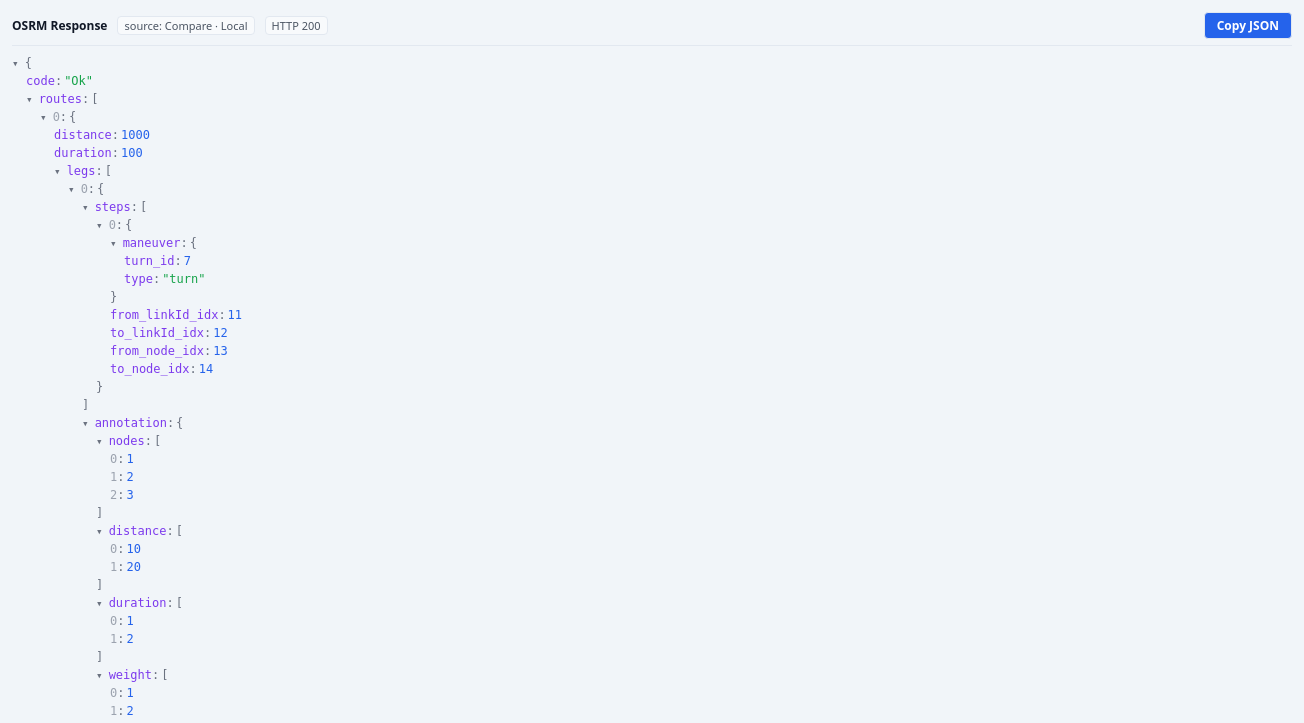
RawResponseInspector › Copy JSON writes the full pretty-printed raw to the clipboard
Click the button "Copy JSON": (1248,26) x1=1204 y1=12 x2=1292 y2=39
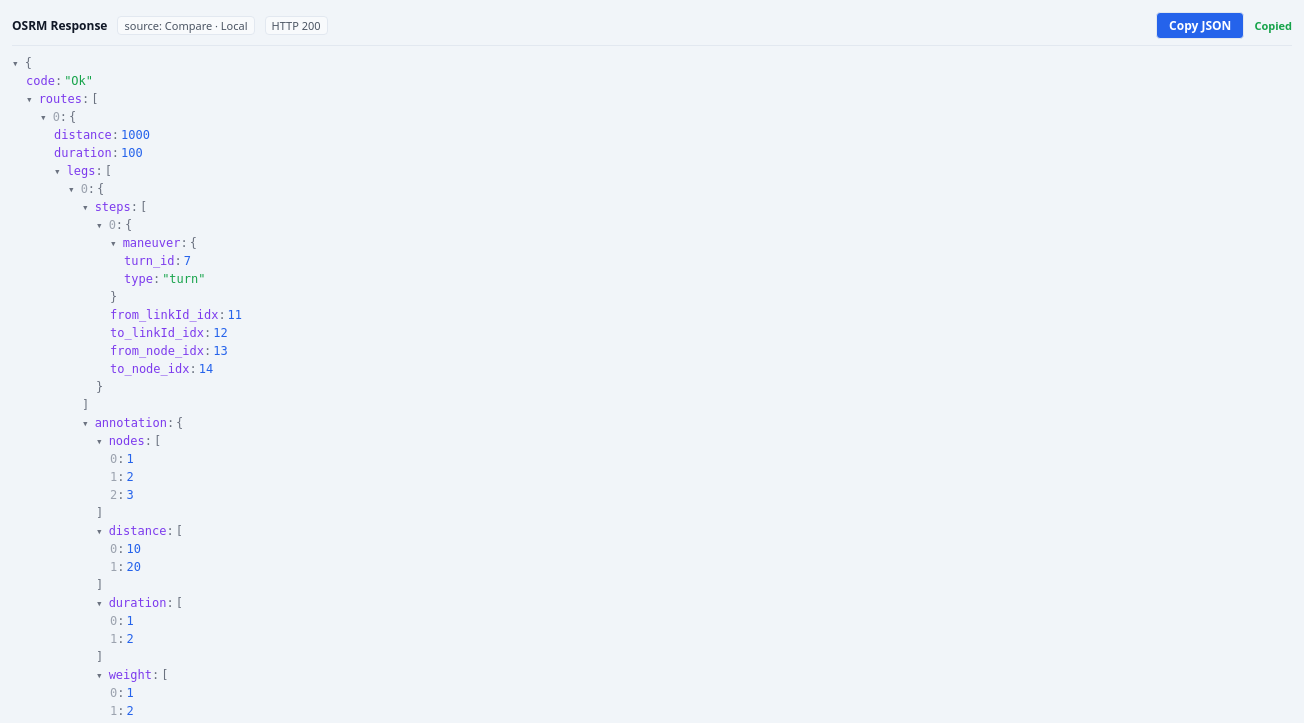
Expected: the text "Copied" is shown, x1=1254 y1=18 x2=1292 y2=33
